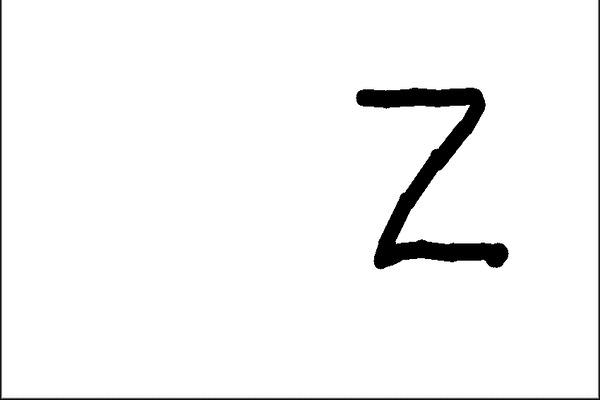Z: (345, 75, 520, 278)
